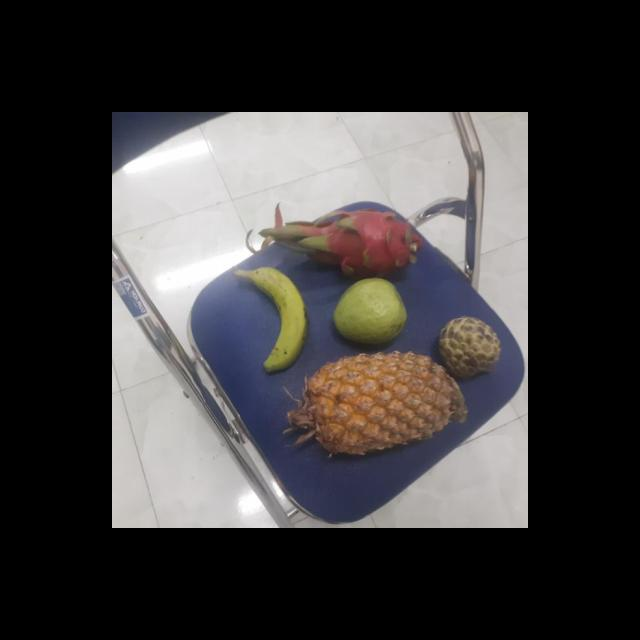Sakya fruit: (434, 316, 501, 381)
banana: (238, 268, 308, 369)
guava: (329, 278, 408, 344)
pineapple: (291, 354, 464, 454)
pitaya: (310, 202, 416, 279)
